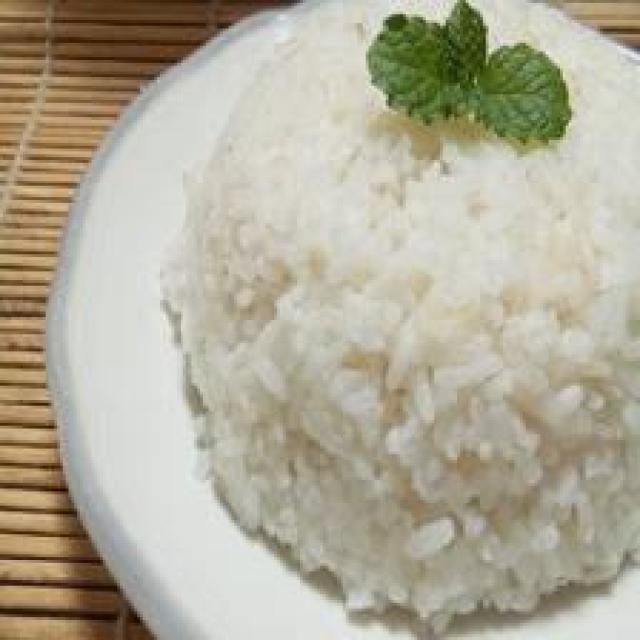Wet Waste: (193, 0, 640, 640)
